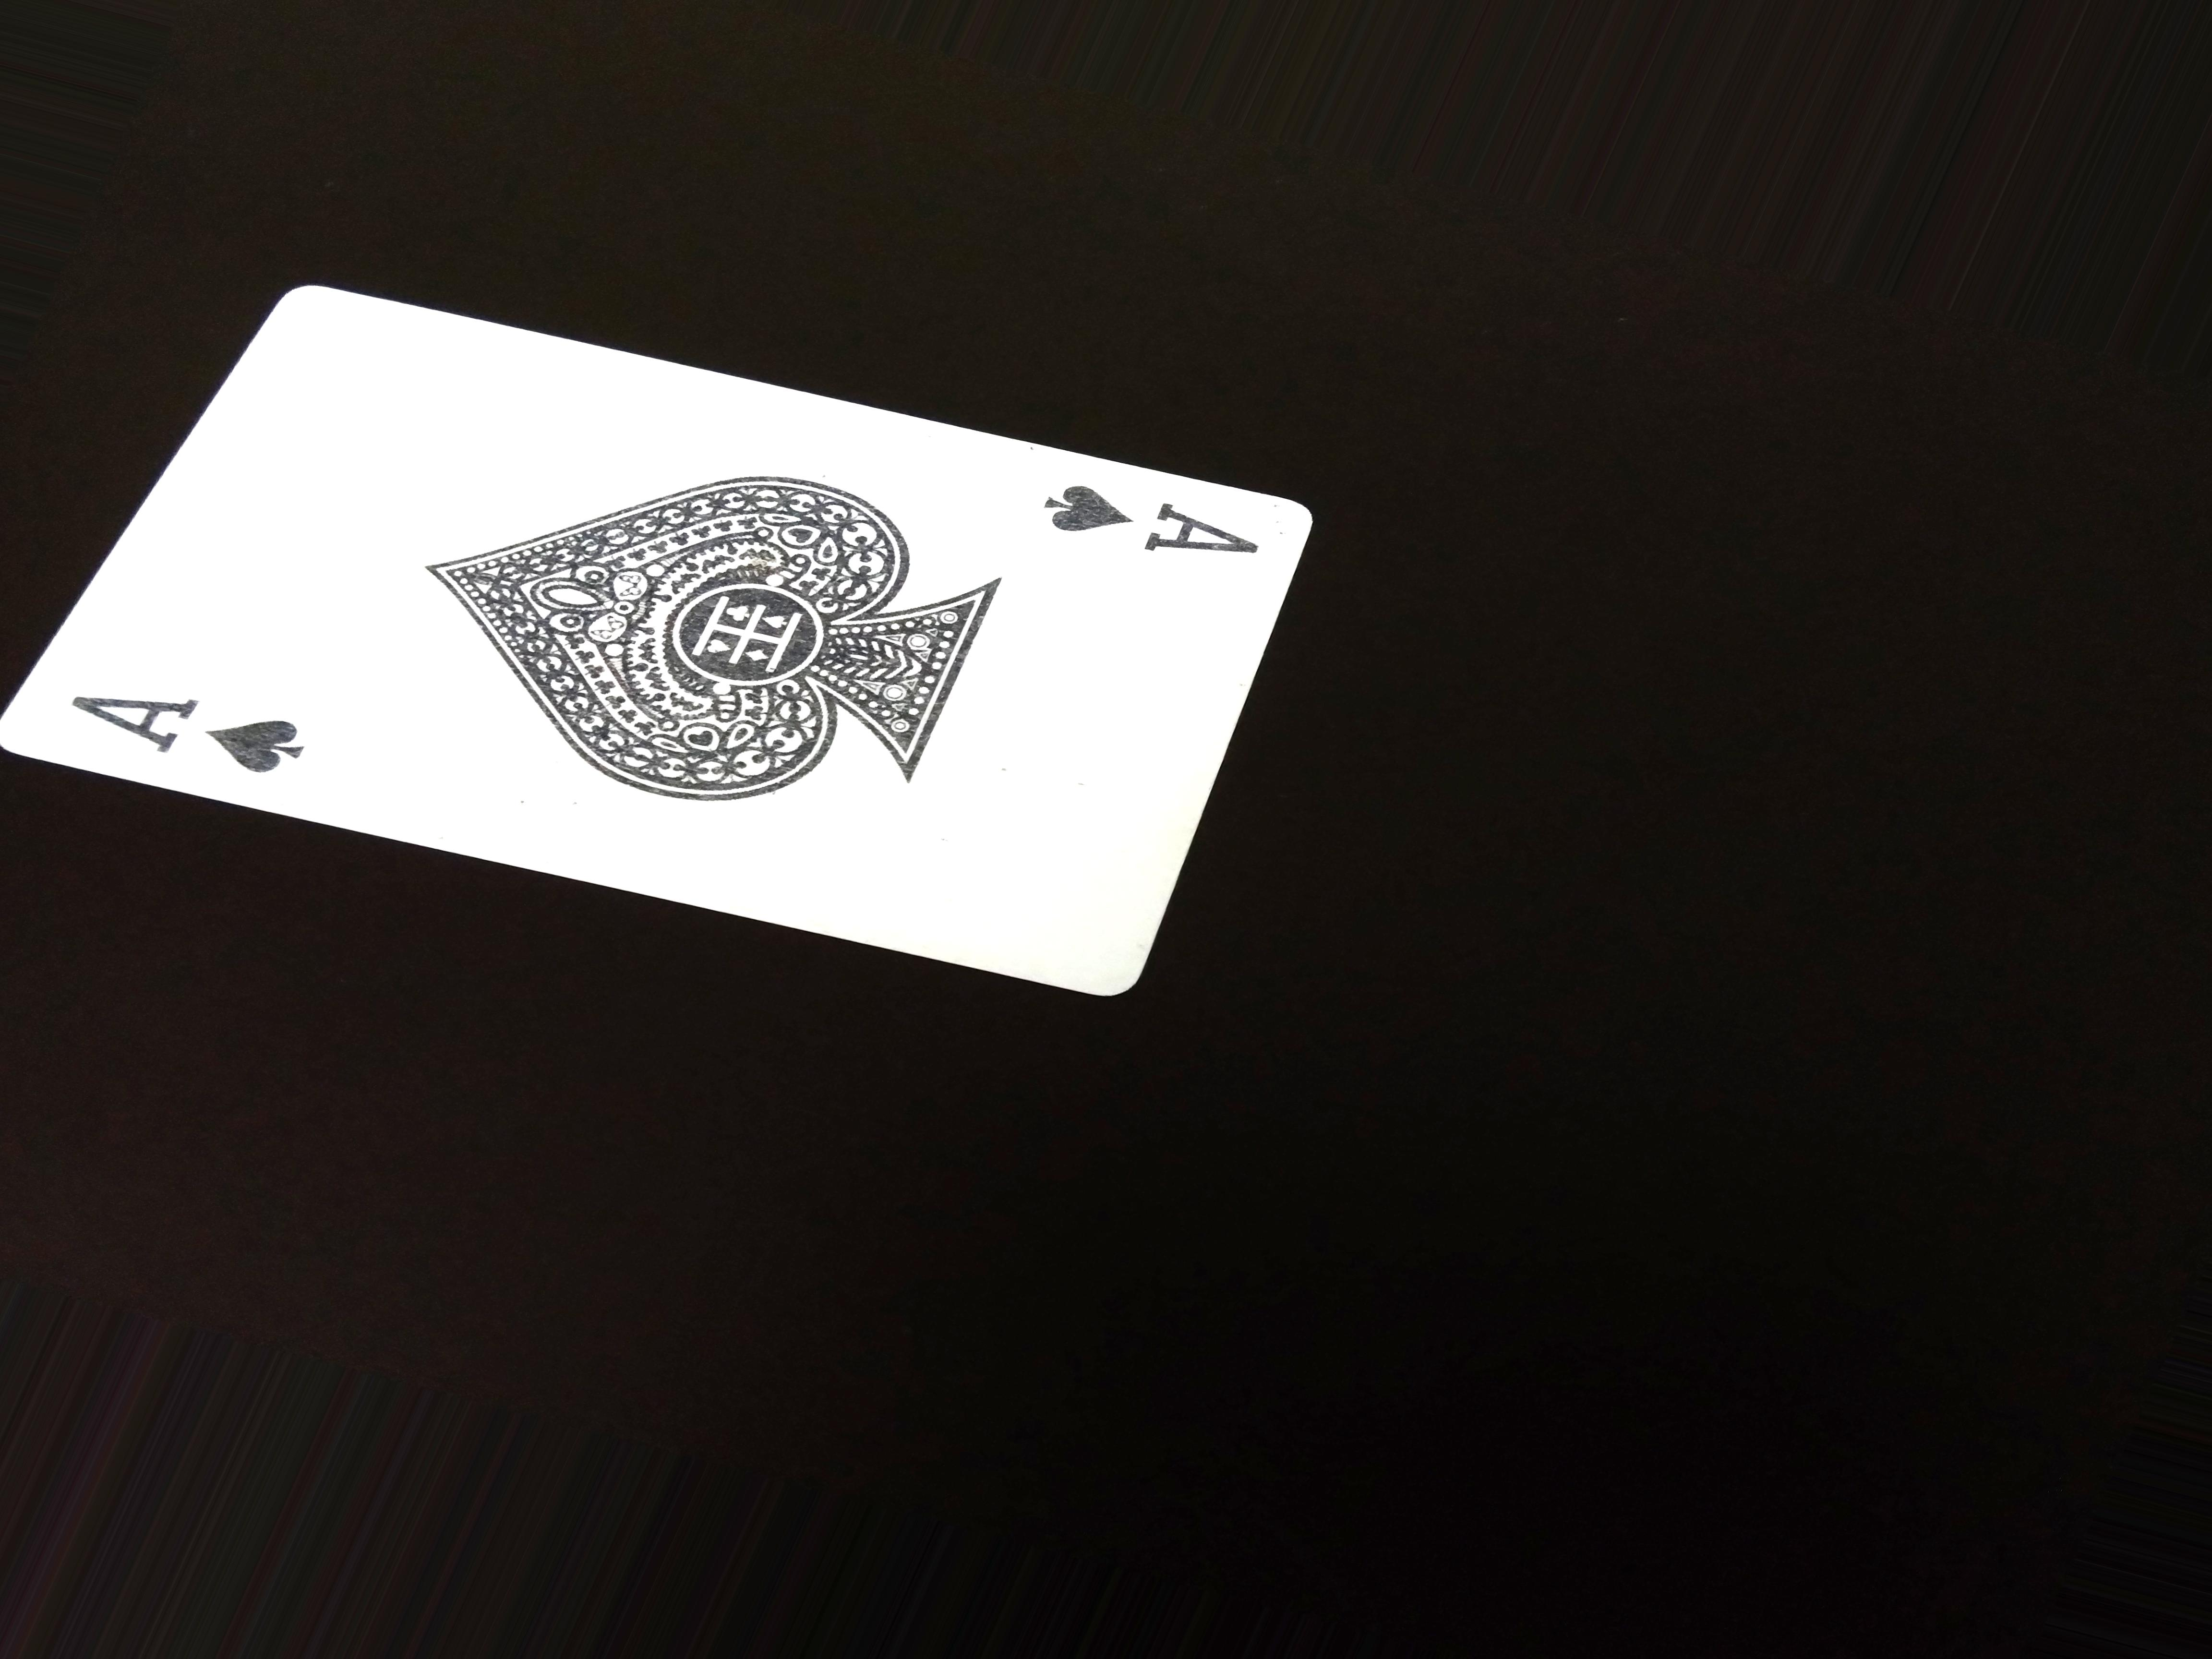AS: (54, 671, 334, 814)
